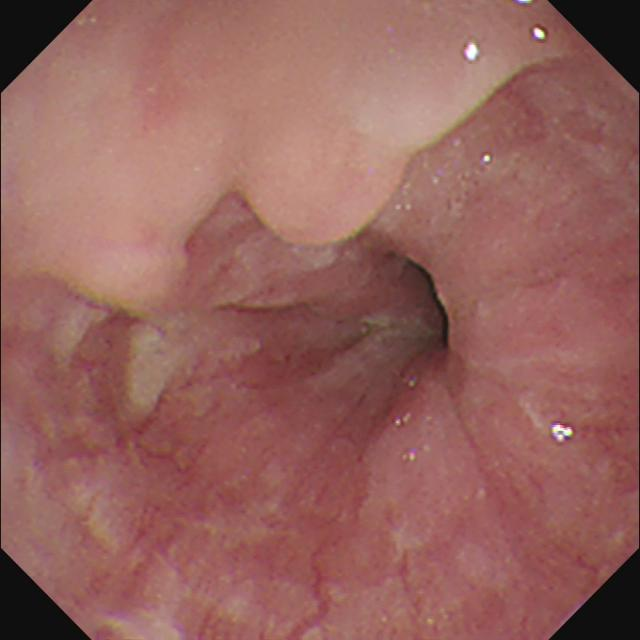A: (243, 147, 407, 272), (241, 317, 376, 395), (61, 245, 196, 322)
E: (405, 257, 466, 357)
J: (106, 325, 263, 413)
U: (551, 422, 574, 446)
